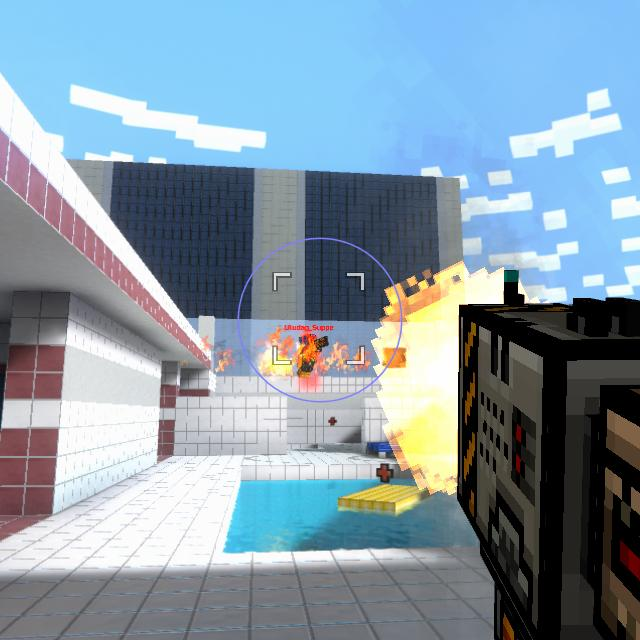Enemy: (296, 334, 317, 378)
